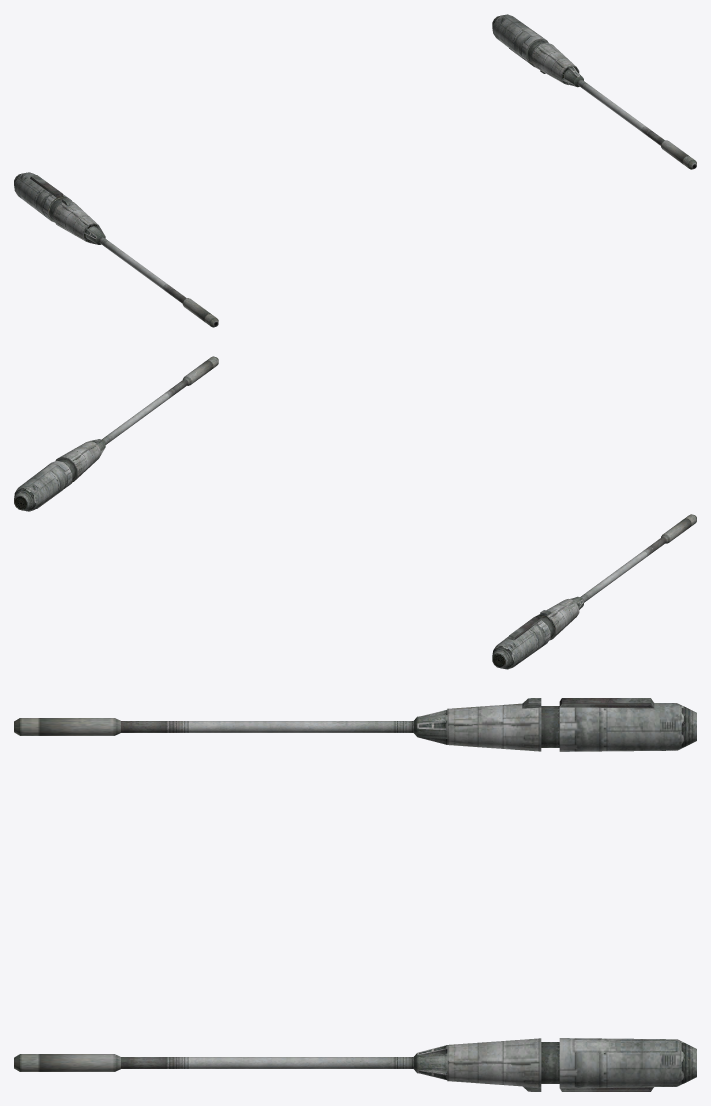
The model's file is xwing_weapon1_neg_s05_l0.fbx.
The picture shows the model from 3 angles, top to bottom: view 1: azimuth 30°, elevation 25°; view 2: azimuth 150°, elevation 25°; view 3: azimuth 270°, elevation 25°; orthographic projection. The views are drawn at different scales.
Parts seen in each view (by area): view 1: mesh_node; view 2: mesh_node; view 3: mesh_node.
Part boxes in pixels (x1,y1,x2,y2): mesh_node: (14, 14, 696, 327); mesh_node: (14, 356, 696, 669); mesh_node: (14, 698, 696, 1091).
Bounding box in the file's own units: 13.08 × 1.65 × 8.8.
1 material, 1 textured.
